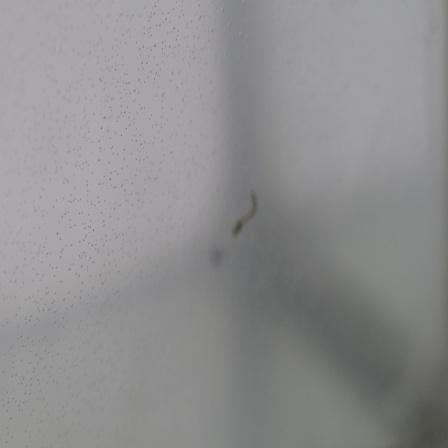Jentik-Nyamuk: (226, 184, 263, 240)
